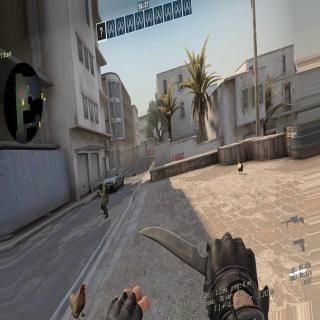CT-Body: (96, 181, 111, 212)
CT-Head: (98, 183, 102, 188)
